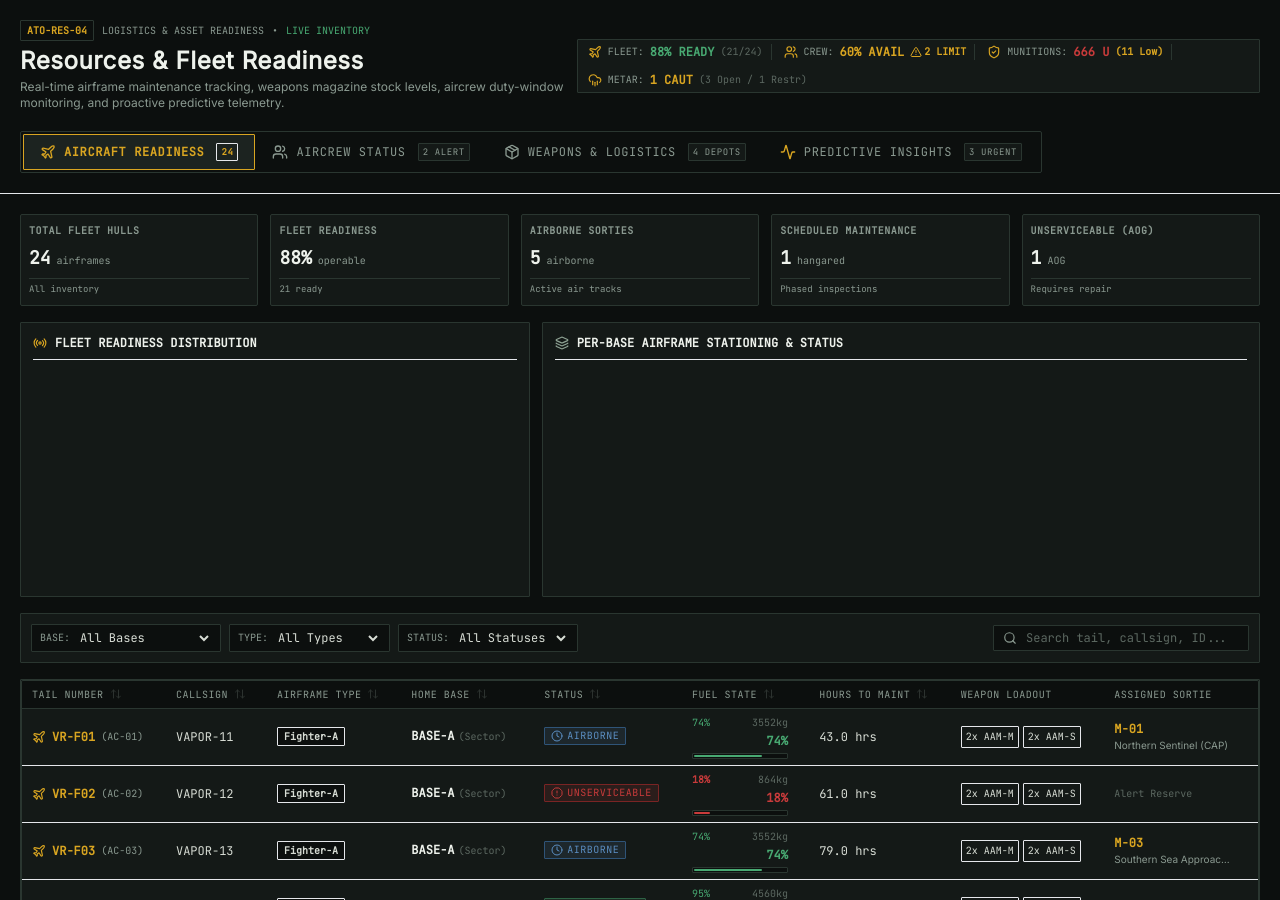
Test case: ResourcesPage (Resource Readiness Views & Logistics) › filters aircraft by search query and base selector
# Search for a specific aircraft
Type "VR-F01" into the field with placeholder "Search tail, callsign, ID...". click: (1121, 638)
box: [993, 624, 1249, 650]
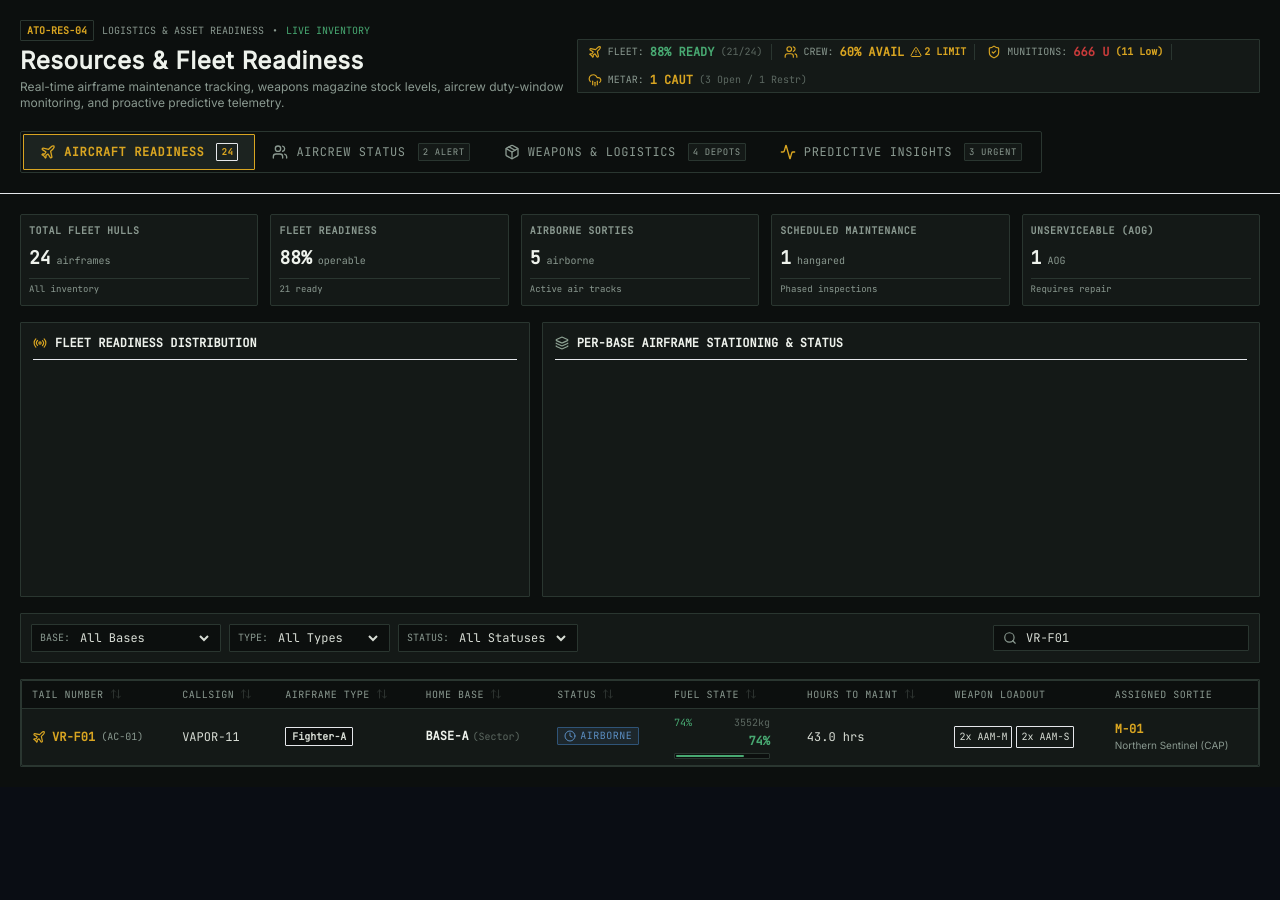
Check: the text "VR-F01" is shown, box [52, 728, 95, 744]
Check: the text "VR-F02" is gone
# Clear search
Clear the field with placeholder "Search tail, callsign, ID...". click: (1121, 638)
box: [993, 624, 1249, 650]
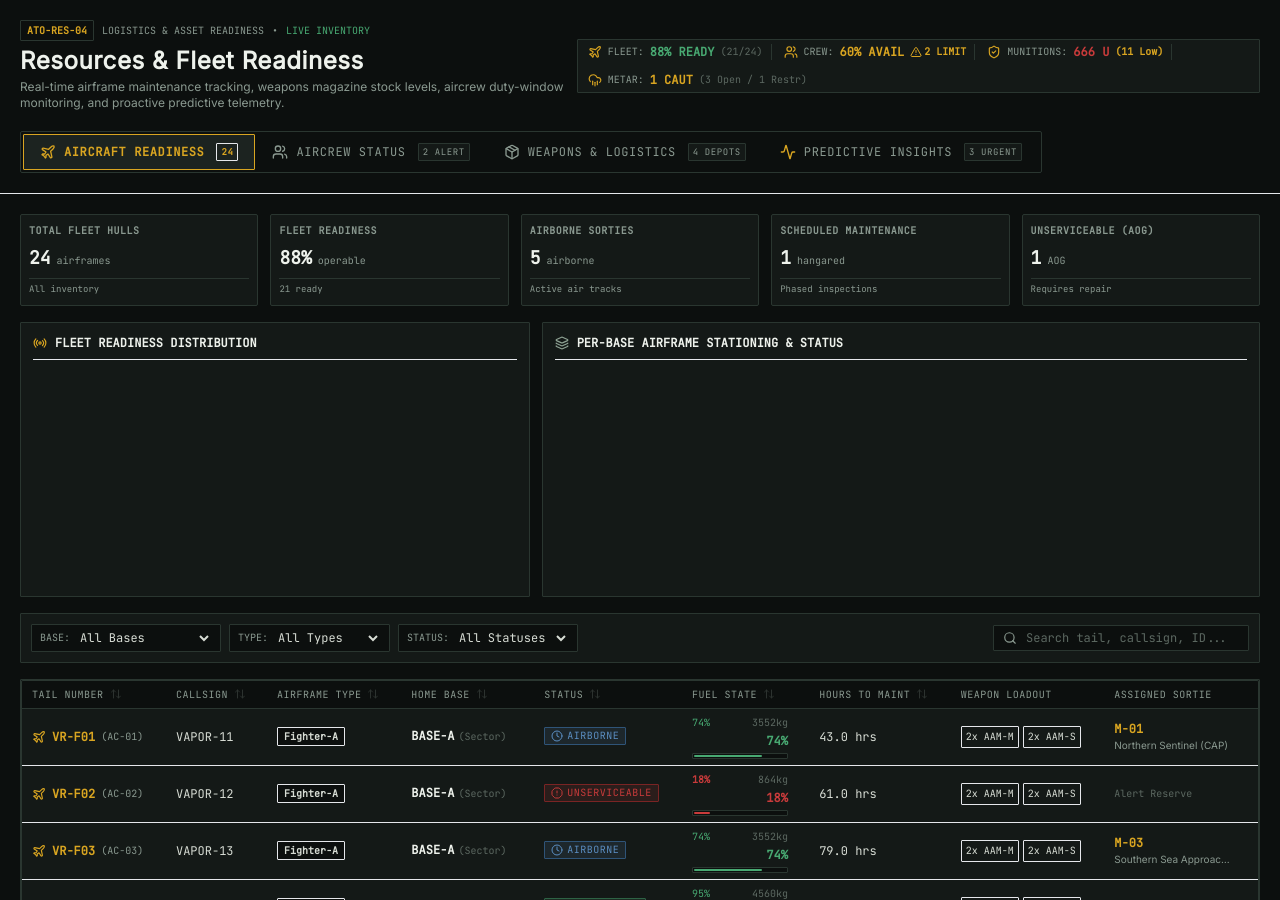
Check: the text "VR-F01" is shown, box [52, 728, 95, 744]
Check: the text "VR-F02" is shown, box [52, 786, 95, 802]
# Filter by base
Select "BASE-D (Delta)" in the dropdown named "Filter by base". click: (144, 638)
box: [76, 628, 212, 646]
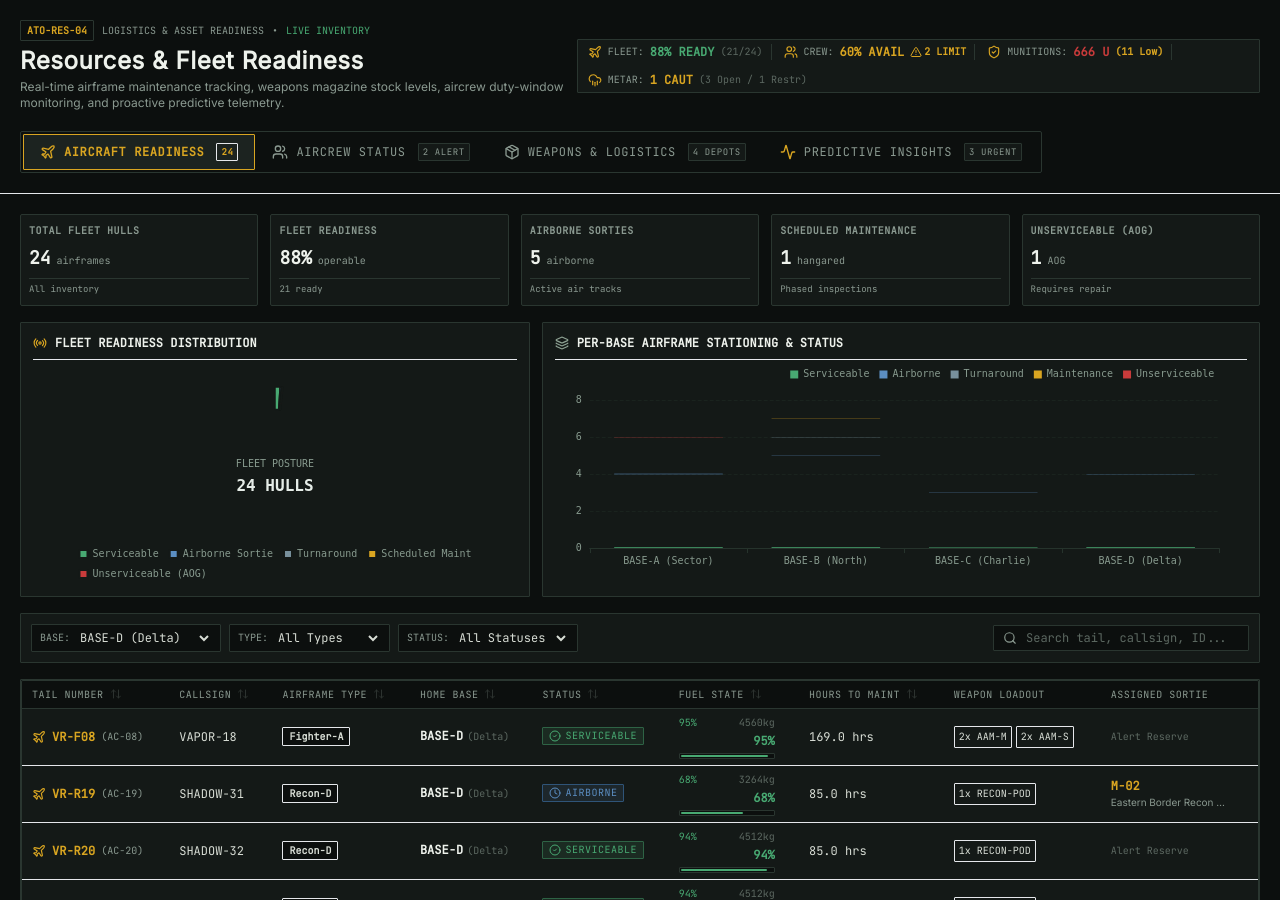
Check: the text "BASE-D" in the row of "VR-F08" is shown, box [420, 728, 463, 744]
Check: the text "BASE-A" is gone
